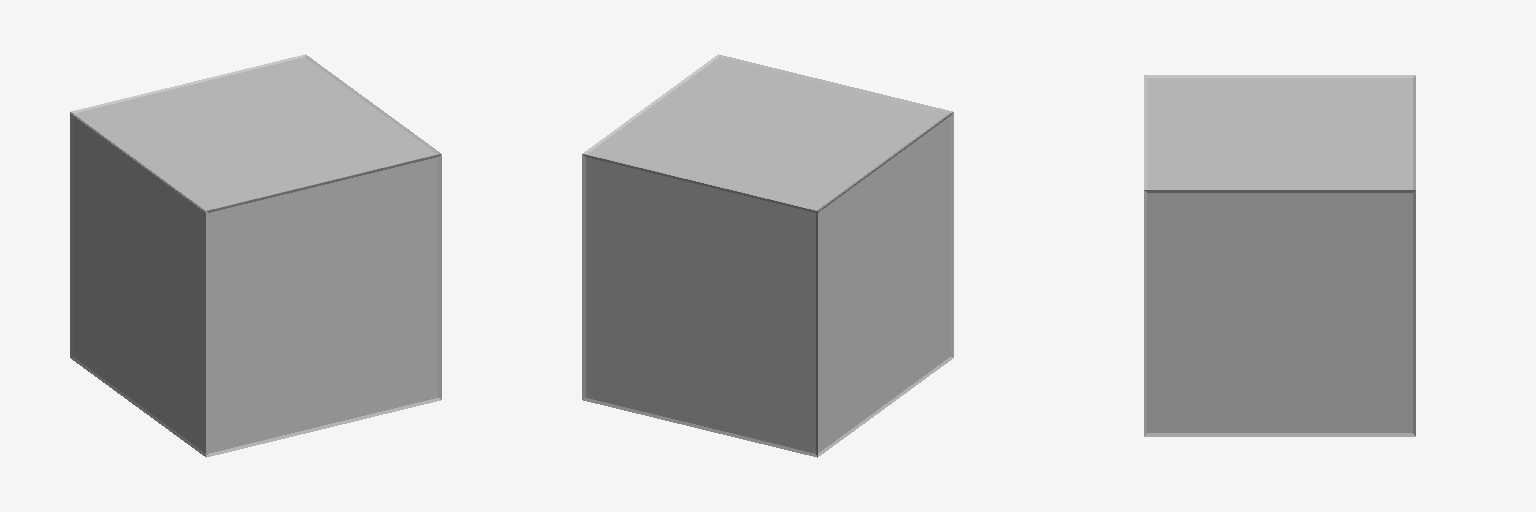
Rendered from building05.obj.
3 renders of one model, left to right at view 1: azimuth 30°, elevation 25°; view 2: azimuth 150°, elevation 25°; view 3: azimuth 270°, elevation 25°, orthographic.
Parts seen in each view (by area): view 1: Cube.004; view 2: Cube.004; view 3: Cube.004.
Boxes of the visible parts, x1=… form: Cube.004: x1=70, y1=54, x2=441, y2=457; Cube.004: x1=582, y1=54, x2=953, y2=457; Cube.004: x1=1144, y1=75, x2=1415, y2=436.
Bounding box in the file's own units: 2.02 × 2.02 × 2.02.